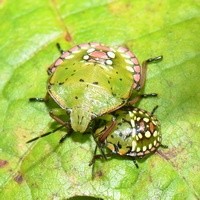insect: (29, 42, 165, 166)
